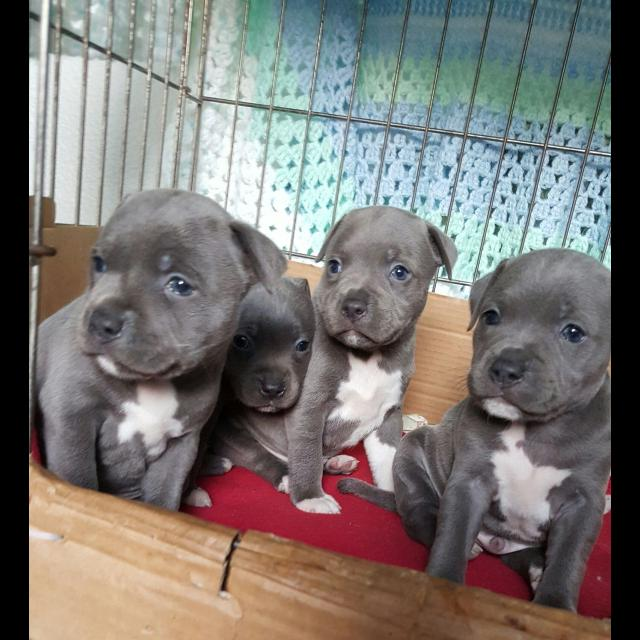am_pit_bull_terrier: (338, 248, 612, 617), (33, 188, 289, 514), (243, 205, 460, 509), (199, 276, 361, 496)
